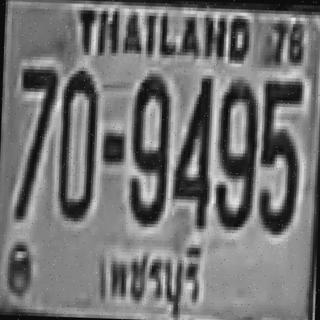N00: (55, 67, 97, 218)
N04: (169, 72, 211, 227)
N05: (256, 77, 300, 232)
N07: (12, 64, 56, 218)
N09: (212, 77, 256, 229), (126, 72, 170, 224)
P44: (90, 238, 210, 320)
